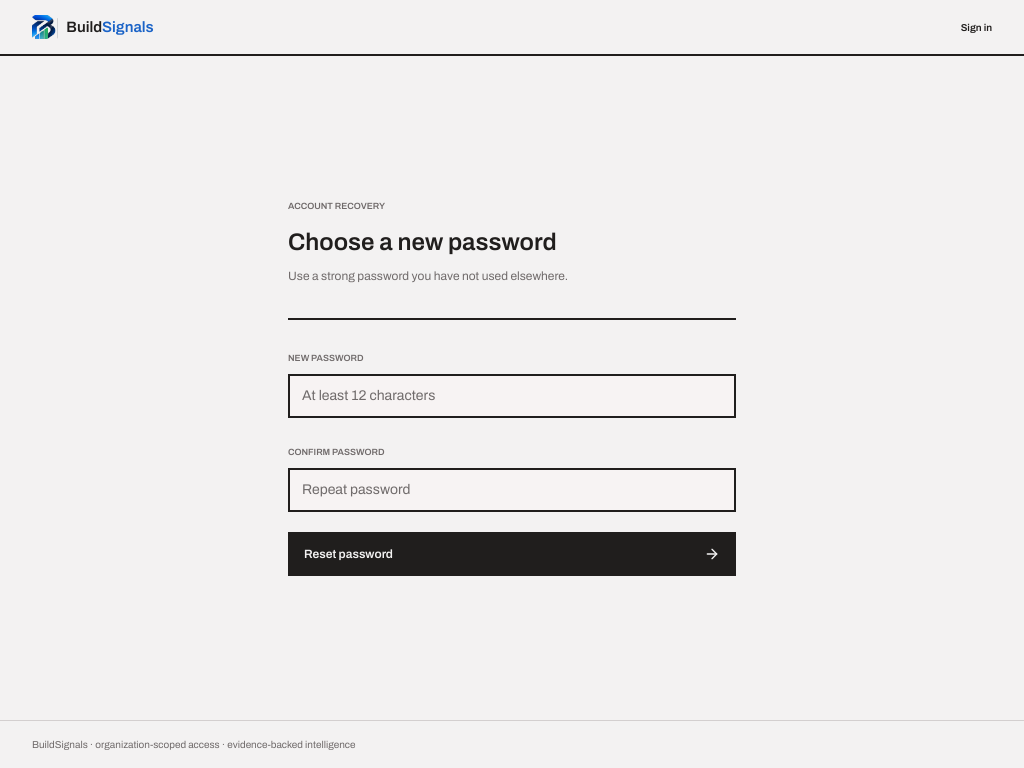
Scenario: <ResetPassword> › shows the invalid-link message on 400
Type "CorrectHorseBattery42" into the password field labelled "New password" at (512, 396), box [288,374,736,418]
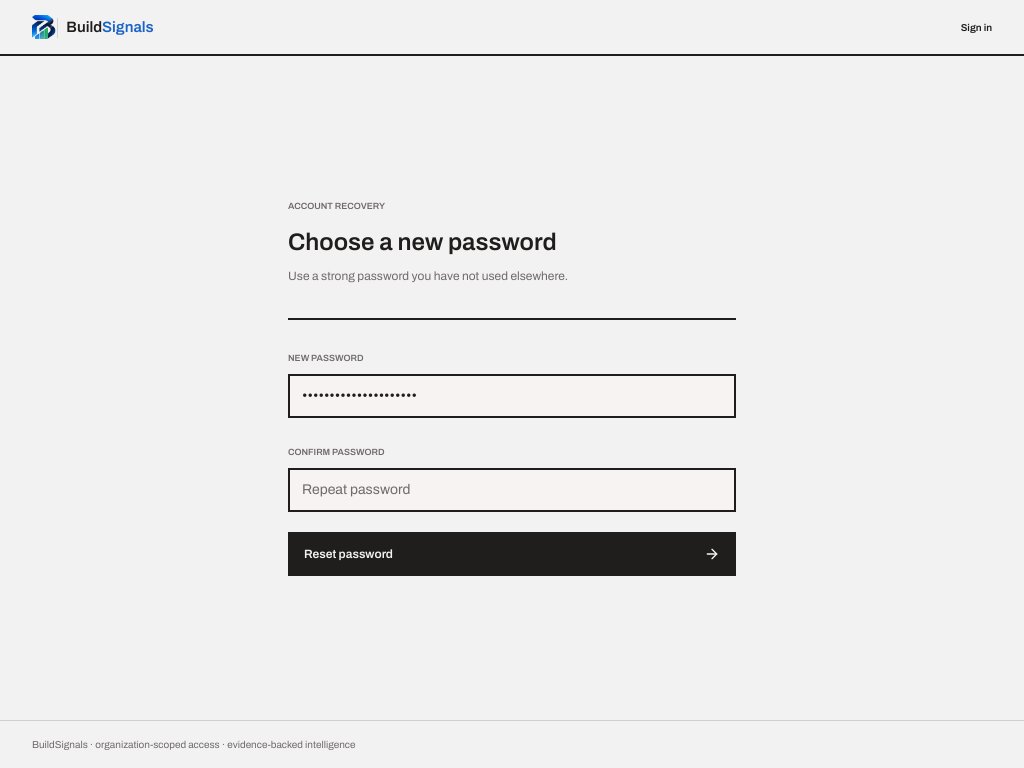
Type "CorrectHorseBattery42" into the password field labelled "Confirm password" at (512, 490), box [288,468,736,512]
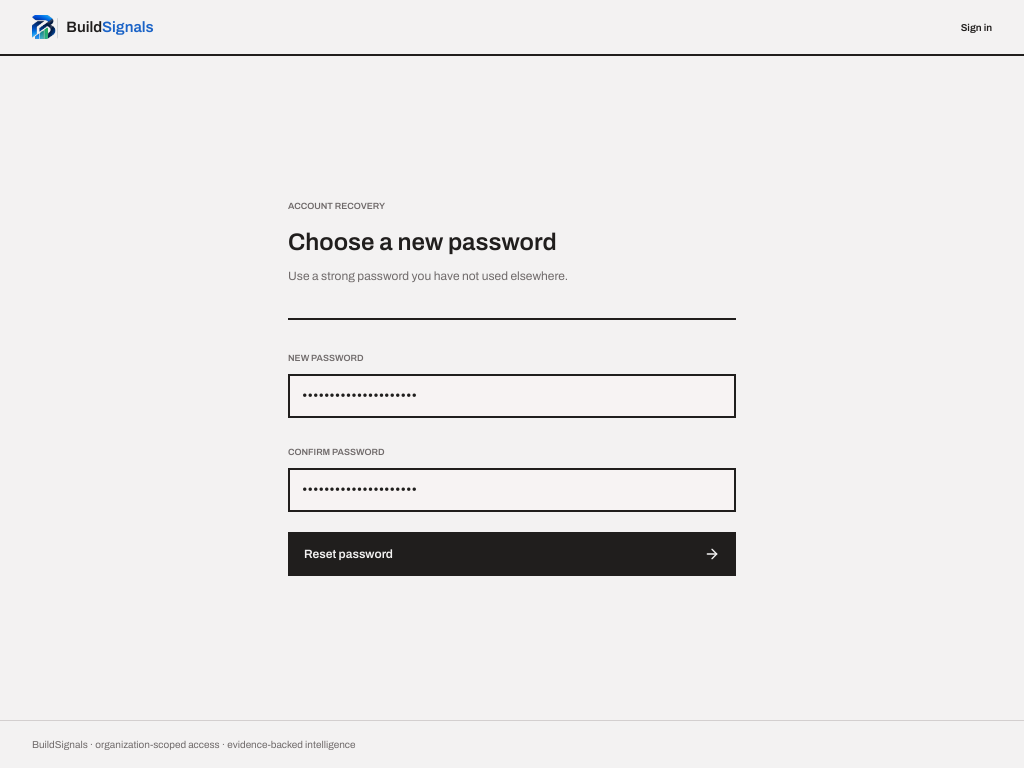
Click the button "Reset password" at (348, 554), box [288,532,736,576]
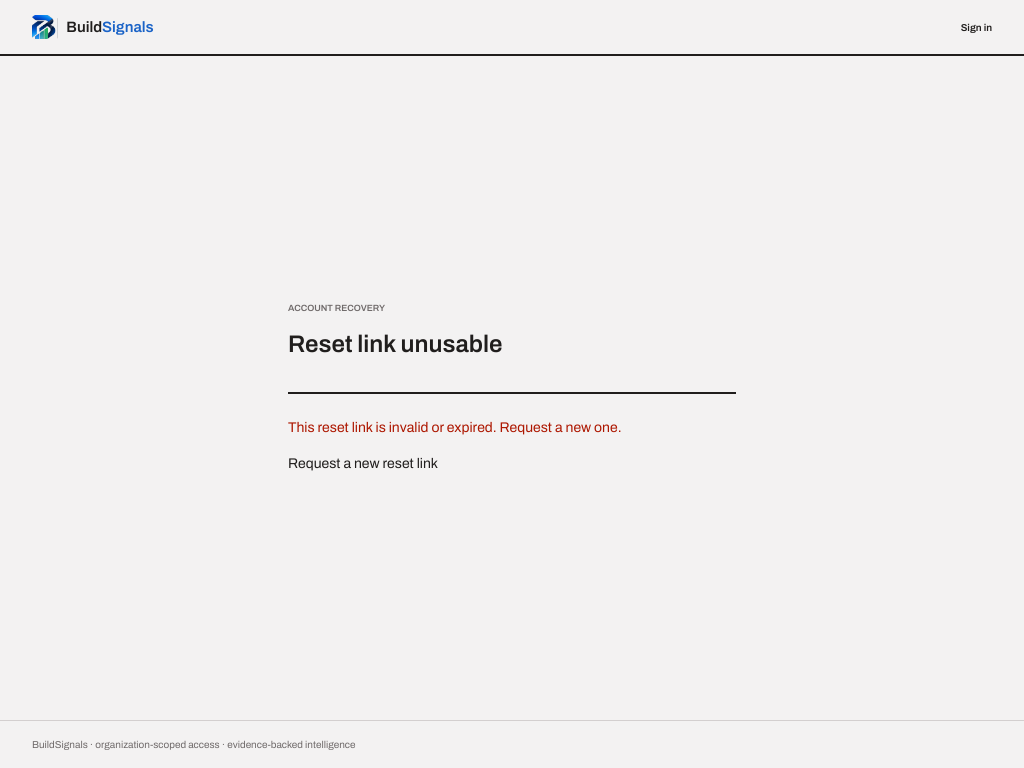
Check: the text "This reset link is invalid or expired. Request a new one." is shown, box [288,420,622,435]
